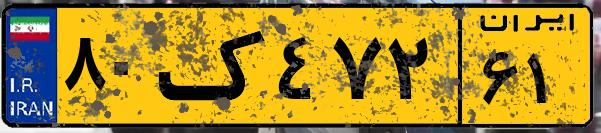0: (110, 28, 158, 98)
1: (525, 38, 570, 115)
2: (385, 28, 445, 110)
4: (270, 28, 330, 110)
6: (475, 38, 525, 113)
7: (330, 28, 385, 110)
8: (57, 26, 110, 100)
ک: (158, 12, 270, 120)
